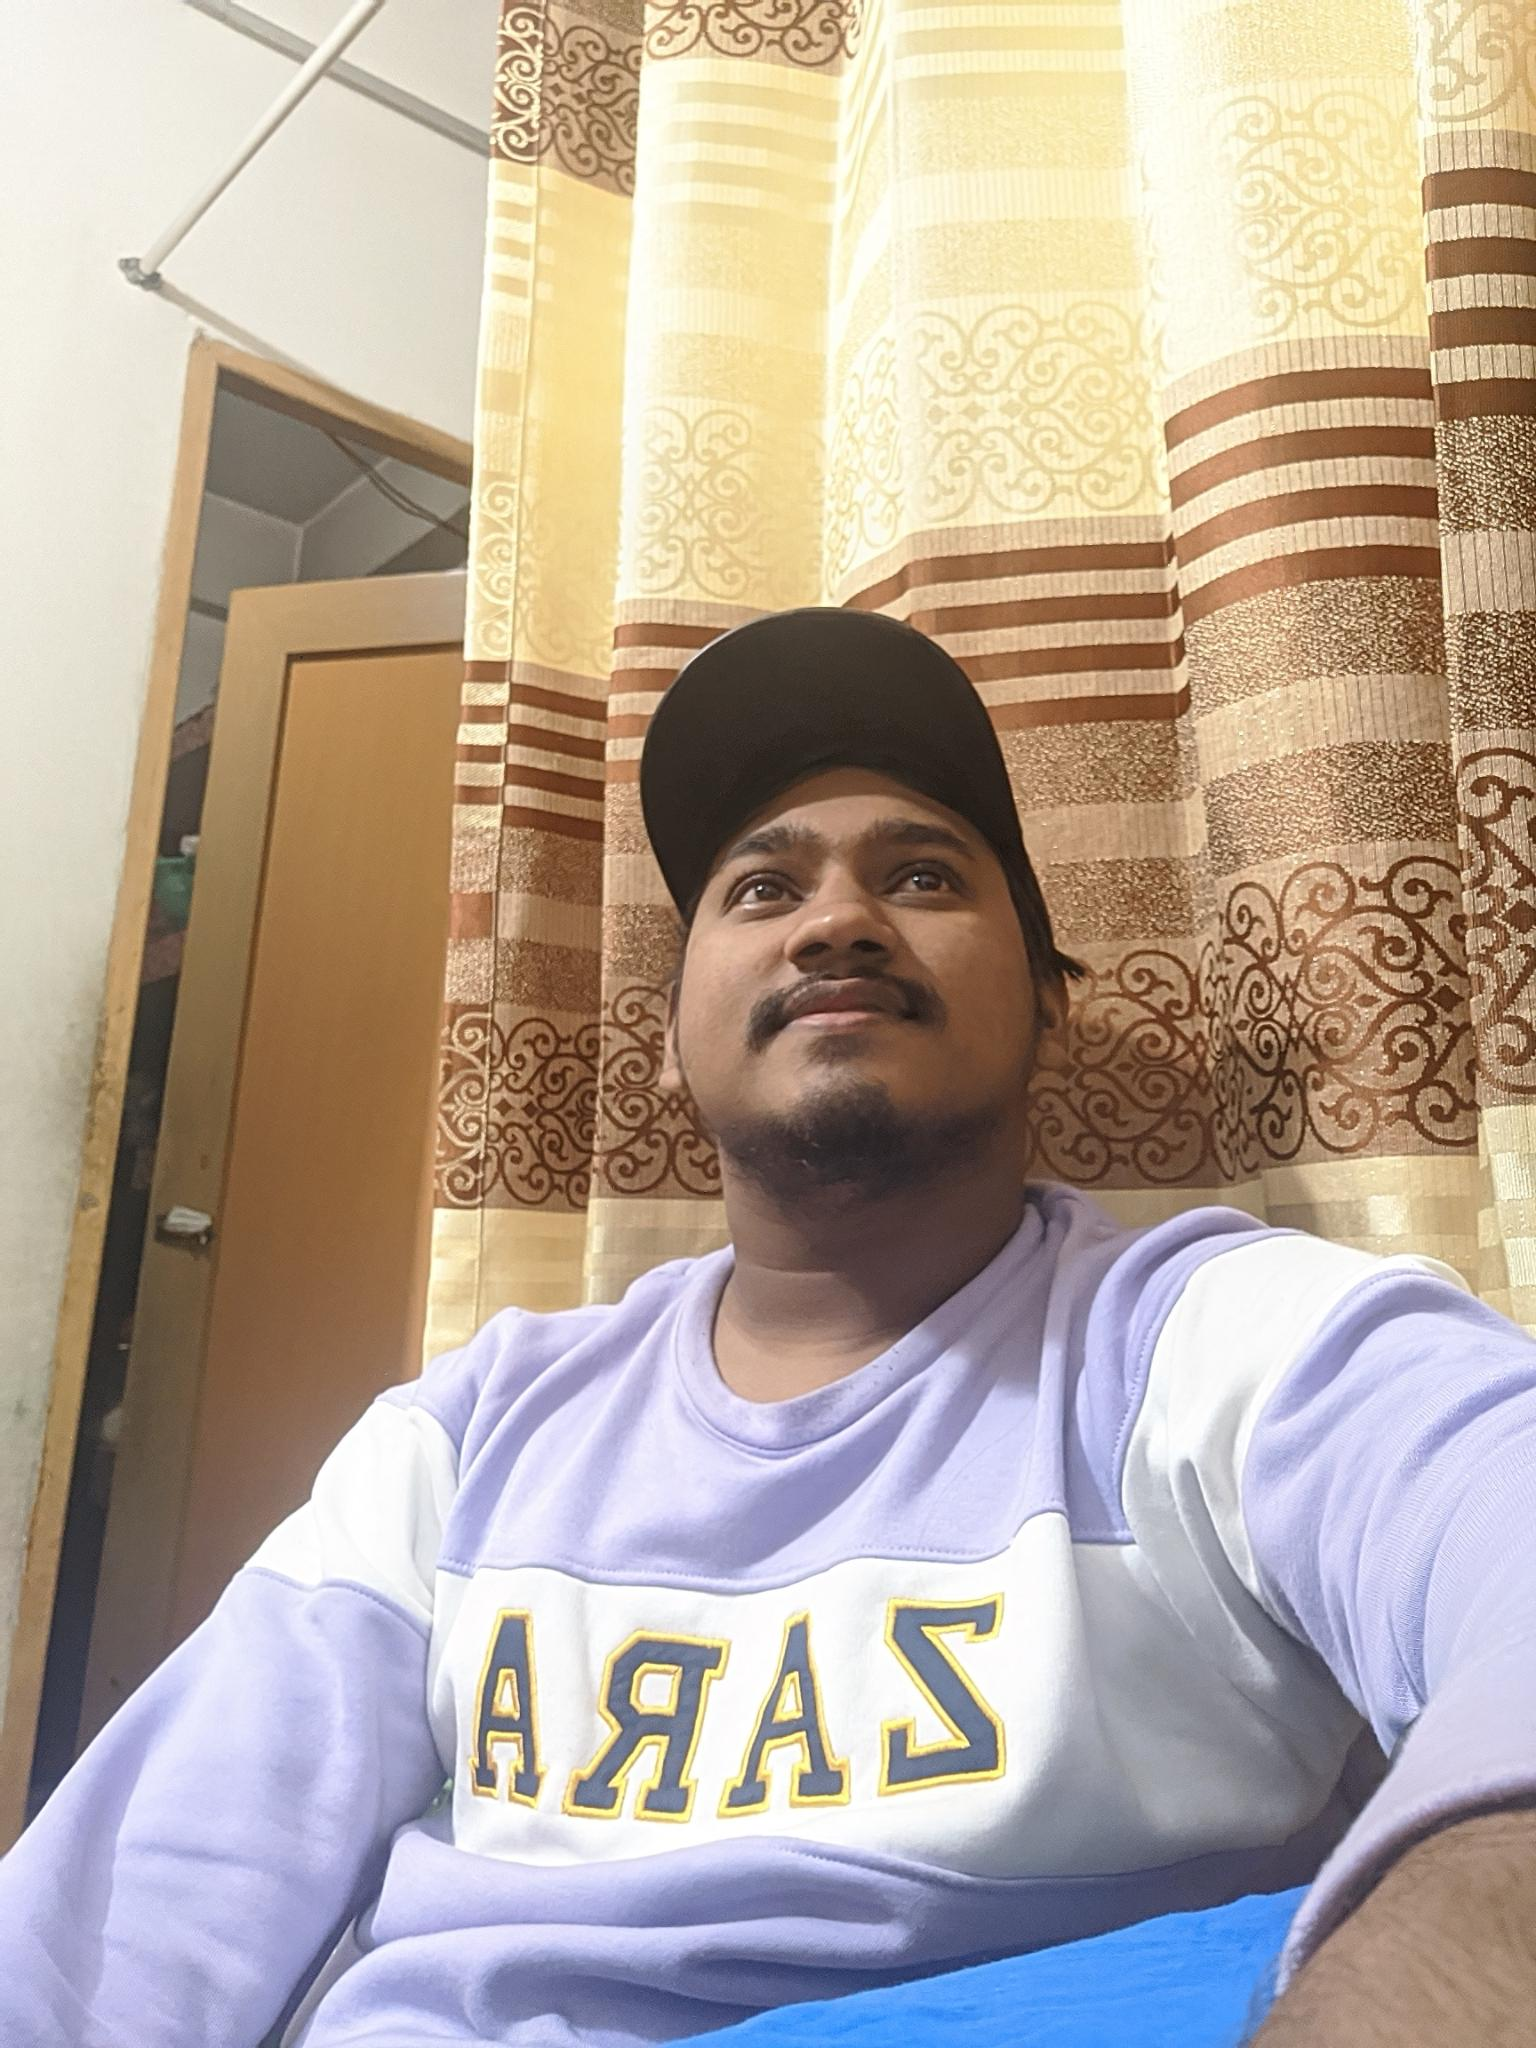Happy: (653, 779, 1029, 1148)
